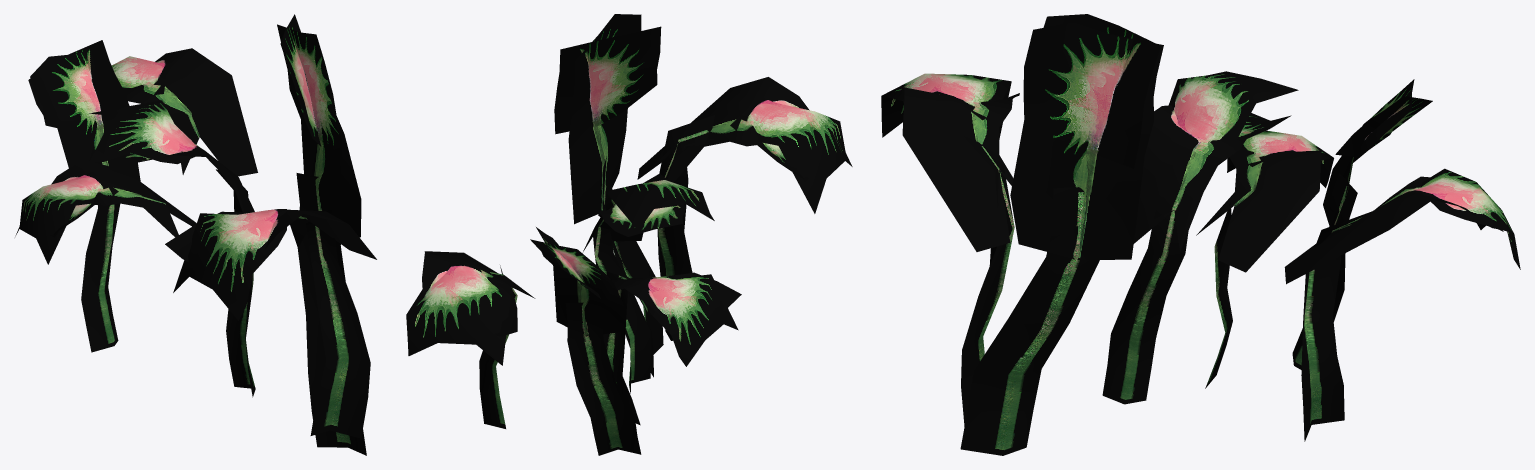
File: Env_Plants_VenusFlytrap_01.fbx
3 renders of one model, left to right at view 1: azimuth 30°, elevation 25°; view 2: azimuth 150°, elevation 25°; view 3: azimuth 270°, elevation 25°, orthographic. The views are drawn at different scales.
Parts seen in each view (by area): view 1: Plane.021; view 2: Plane.021; view 3: Plane.021.
Boxes of the visible parts, x1,y1,x2,y2 form: Plane.021: [15, 14, 376, 455]; Plane.021: [406, 14, 852, 455]; Plane.021: [881, 14, 1520, 455].
Size of the model in its own units: 54.72 by 79.95 by 106.
